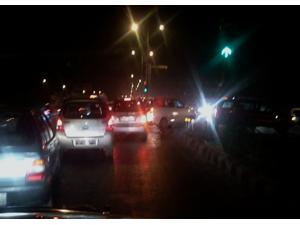car: (1, 109, 58, 208), (57, 100, 112, 158), (214, 97, 256, 137), (111, 98, 148, 141), (150, 97, 193, 131)
